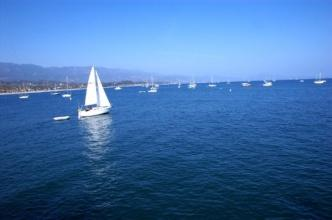fanchuan: (69, 62, 112, 117)
